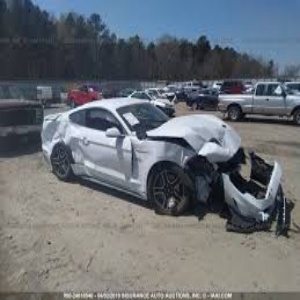door: (70, 137, 141, 178)
